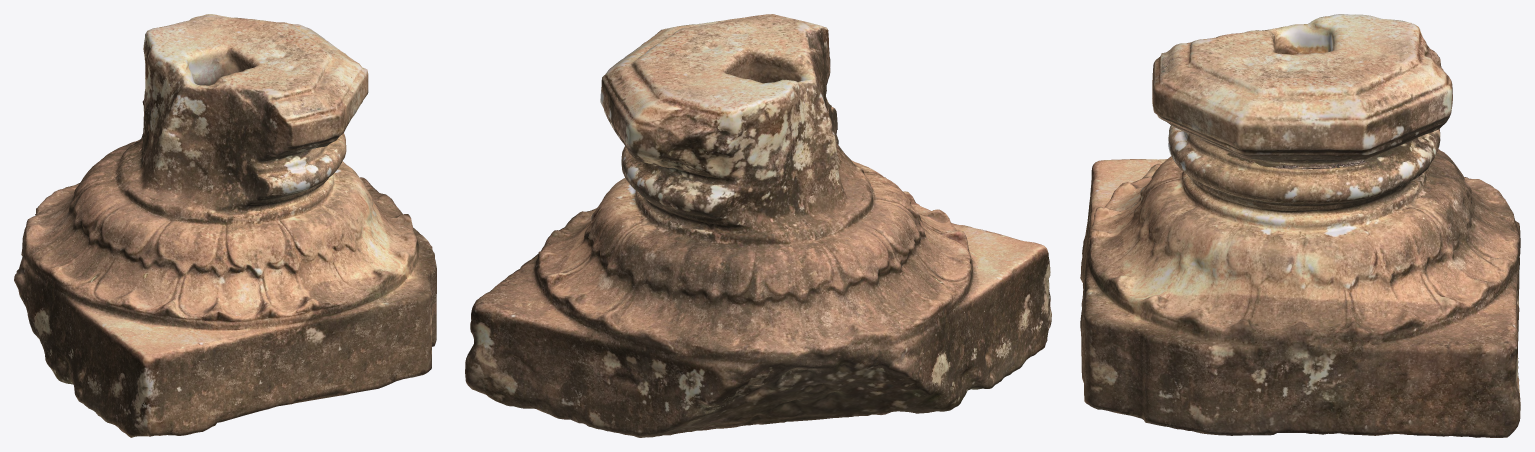
The model's file is 18_MysonSanctuaryB_Detru_final.glb.
3 renders of one model, left to right at view 1: azimuth 30°, elevation 25°; view 2: azimuth 150°, elevation 25°; view 3: azimuth 270°, elevation 25°, orthographic. The views are drawn at different scales.
Bounding box in the file's own units: 1.02 × 0.7776 × 0.9846.
1 material, 1 textured.
